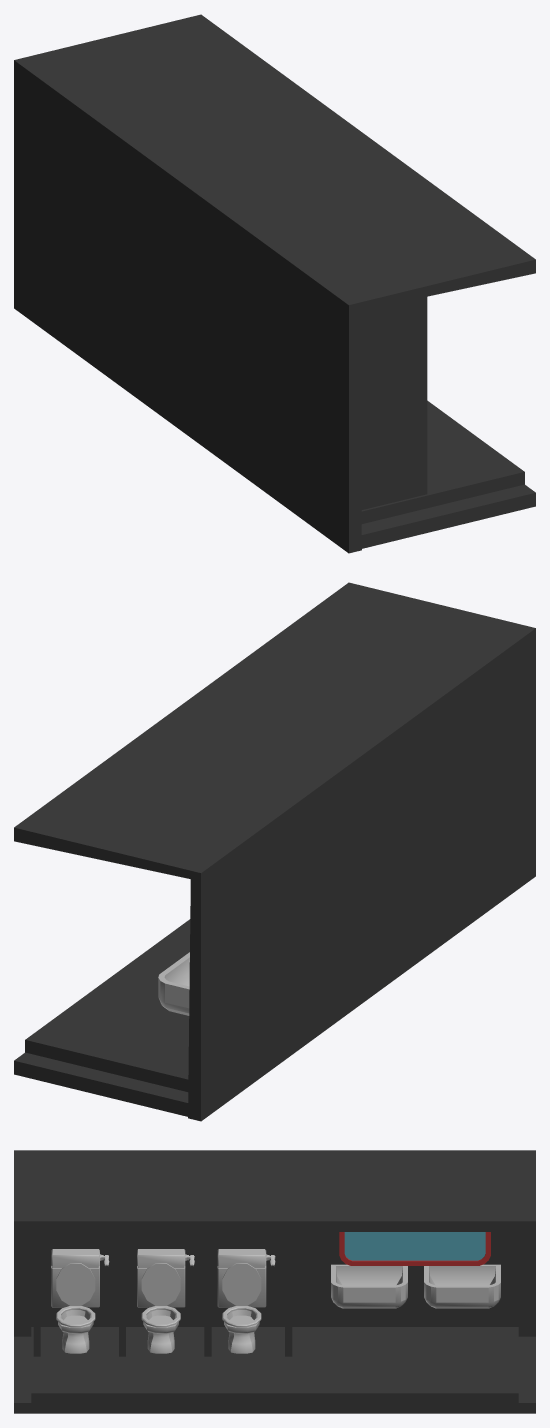
File: Toilets 1.fbx
3 renders of one model, top to bottom at view 1: azimuth 30°, elevation 25°; view 2: azimuth 150°, elevation 25°; view 3: azimuth 270°, elevation 25°, orthographic. The views are drawn at different scales.
Parts seen in each view (by area): view 1: Würfel_6; view 2: Würfel_6, Würfel; view 3: Würfel_6, Spiegel, Würfel, Würfel_1_4, Würfel_1, Würfel_1_3, Würfel_1_2, Röhre_1, Röhre_1_2, Röhre_1_3, SpiegelRamen, Würfel_3 (+5 smaller).
Part boxes in pixels (left/top/right/bottom): Würfel_6: left=14, top=14, right=535, bottom=553; Würfel_6: left=14, top=582, right=535, bottom=1121; Würfel: left=158, top=952, right=189, bottom=1015; Würfel_6: left=14, top=1150, right=535, bottom=1413; Spiegel: left=344, top=1232, right=485, bottom=1260; Würfel: left=424, top=1264, right=500, bottom=1308; Würfel_1_4: left=331, top=1264, right=407, bottom=1308; Würfel_1: left=217, top=1249, right=267, bottom=1307; Würfel_1_3: left=51, top=1249, right=101, bottom=1307; Würfel_1_2: left=137, top=1249, right=186, bottom=1307; Röhre_1: left=222, top=1263, right=261, bottom=1305; Röhre_1_2: left=141, top=1263, right=180, bottom=1305; Röhre_1_3: left=56, top=1263, right=95, bottom=1305; SpiegelRamen: left=339, top=1232, right=490, bottom=1265; Würfel_3: left=143, top=1310, right=178, bottom=1353.
Size of the model in its own units: 355 by 450 by 1100.
